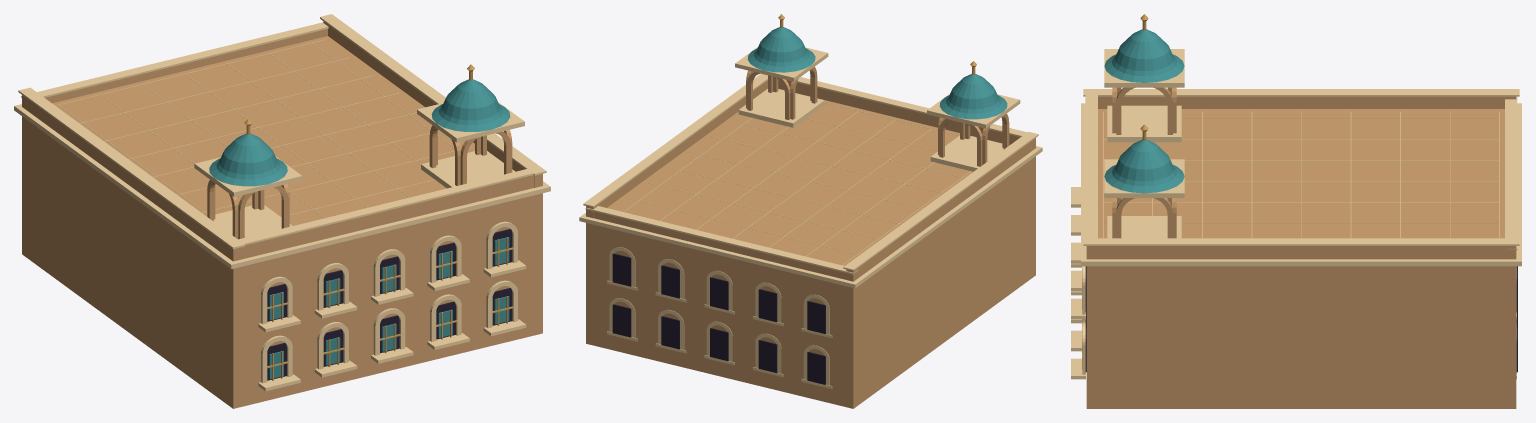
File: flight_terrace.glb
The picture shows the model from 3 angles, left to right: view 1: azimuth 30°, elevation 25°; view 2: azimuth 150°, elevation 25°; view 3: azimuth 270°, elevation 25°; orthographic projection. The views are drawn at different scales.
Visible parts, largest first — view 1: flight_terrace Honey sandstone, flight_terrace Carved warm limestone, flight_terrace Oxidised turquoise copper, flight_terrace Deep recessed arch, flight_terrace Brass finials; view 2: flight_terrace Honey sandstone, flight_terrace Carved warm limestone, flight_terrace Deep recessed arch, flight_terrace Oxidised turquoise copper; view 3: flight_terrace Honey sandstone, flight_terrace Carved warm limestone, flight_terrace Oxidised turquoise copper, flight_terrace Deep recessed arch.
Part boxes in pixels (x1=…): flight_terrace Honey sandstone: x1=22, y1=21, x2=542, y2=408; flight_terrace Carved warm limestone: x1=14, y1=14, x2=550, y2=391; flight_terrace Oxidised turquoise copper: x1=209, y1=79, x2=510, y2=379; flight_terrace Deep recessed arch: x1=267, y1=229, x2=512, y2=380; flight_terrace Brass finials: x1=244, y1=64, x2=513, y2=380; flight_terrace Honey sandstone: x1=586, y1=67, x2=1035, y2=408; flight_terrace Carved warm limestone: x1=579, y1=47, x2=1042, y2=388; flight_terrace Deep recessed arch: x1=612, y1=253, x2=825, y2=384; flight_terrace Oxidised turquoise copper: x1=747, y1=27, x2=1007, y2=119; flight_terrace Honey sandstone: x1=1086, y1=87, x2=1516, y2=408; flight_terrace Carved warm limestone: x1=1071, y1=49, x2=1521, y2=379; flight_terrace Oxidised turquoise copper: x1=1104, y1=29, x2=1184, y2=193; flight_terrace Deep recessed arch: x1=1085, y1=266, x2=1517, y2=372.
Bounding box in the file's own units: 22.7 × 17.57 × 27.3.
